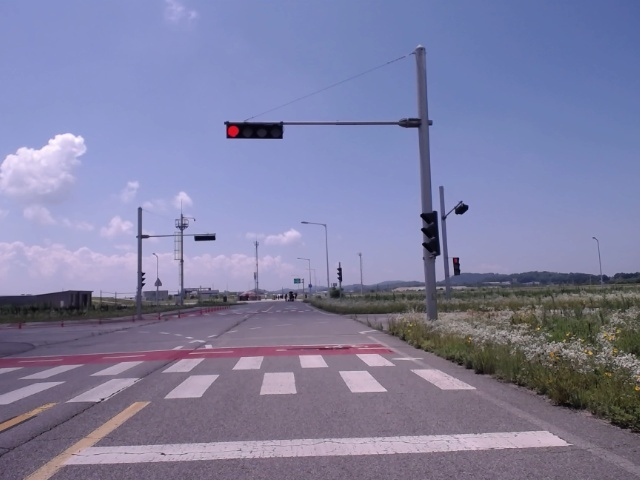red_4: (226, 121, 283, 140)
